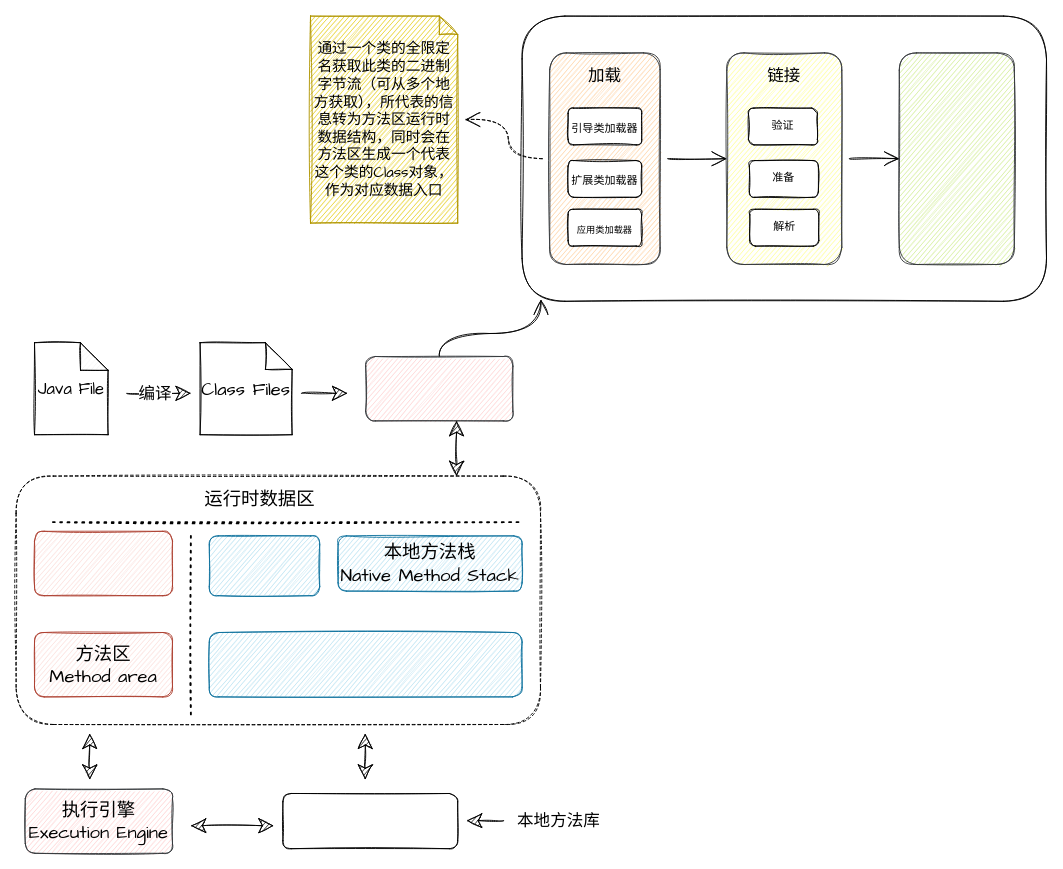
This 1063x869 diagram has some shape labels left out. Here are the shapes that lost their labels. From the top down, the box of each, then its label:
(898, 52, 1014, 264): 初始化
(365, 356, 513, 421): 类装载 Class Loader
(34, 530, 172, 596): 堆 heap
(208, 535, 320, 596): Java栈 Java Stack
(208, 632, 522, 697): 程序计数器 Program Counter Register
(282, 793, 458, 849): 本地方法接口 Native Interface
